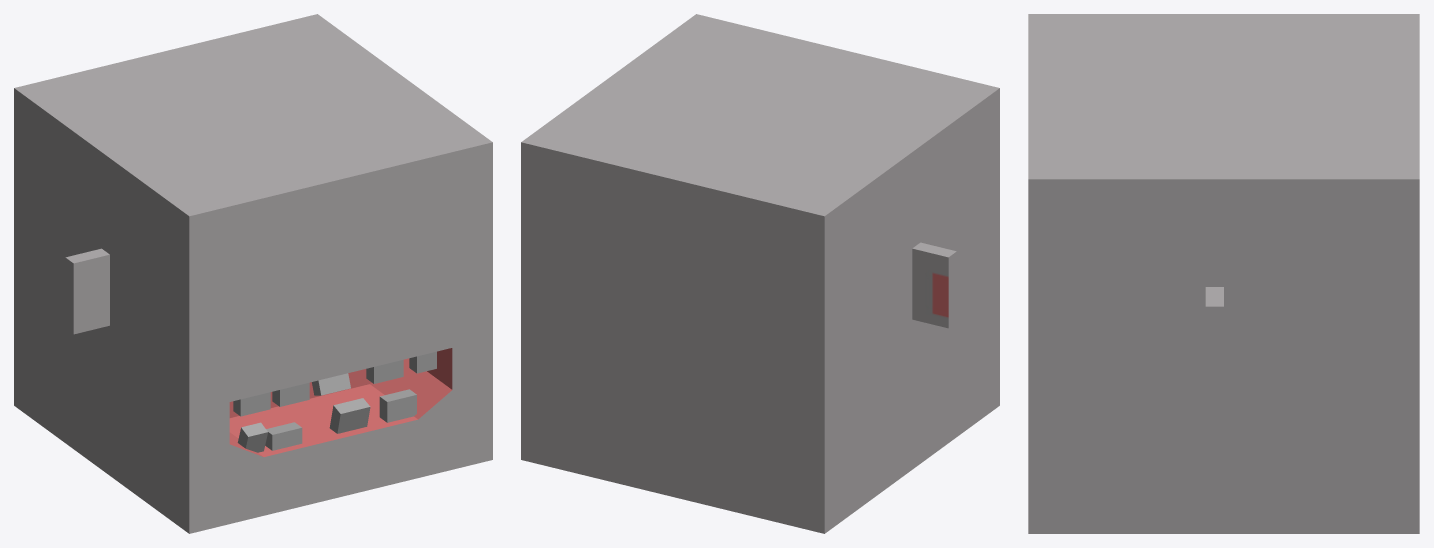
The model's file is Floating_Head.fbx.
3 views of the same model, side by side, from view 1: azimuth 30°, elevation 25°; view 2: azimuth 150°, elevation 25°; view 3: azimuth 270°, elevation 25° (orthographic). The views are drawn at different scales.
Parts seen in each view (by area): view 1: pCube2, pCube13, pCube10, pCube11, pCube9, pCube8, pCube3, pCube4, pCube6, pCube5; view 2: pCube2, pCube13; view 3: pCube2, pCube14.
Part boxes in pixels (x1,y1,x2,y2): pCube2: (14, 14, 492, 533); pCube13: (65, 248, 109, 334); pCube10: (329, 398, 370, 433); pCube11: (379, 389, 416, 422); pCube9: (265, 422, 302, 450); pCube8: (237, 422, 267, 452); pCube3: (233, 392, 270, 416); pCube4: (272, 382, 309, 406); pCube6: (366, 359, 403, 383); pCube5: (312, 373, 350, 395); pCube2: (521, 14, 999, 533); pCube13: (912, 242, 956, 328); pCube2: (1028, 14, 1419, 533); pCube14: (1205, 287, 1223, 385).
Size of the model in its own units: 1.24 by 1 by 1.
2 materials, 1 textured.
